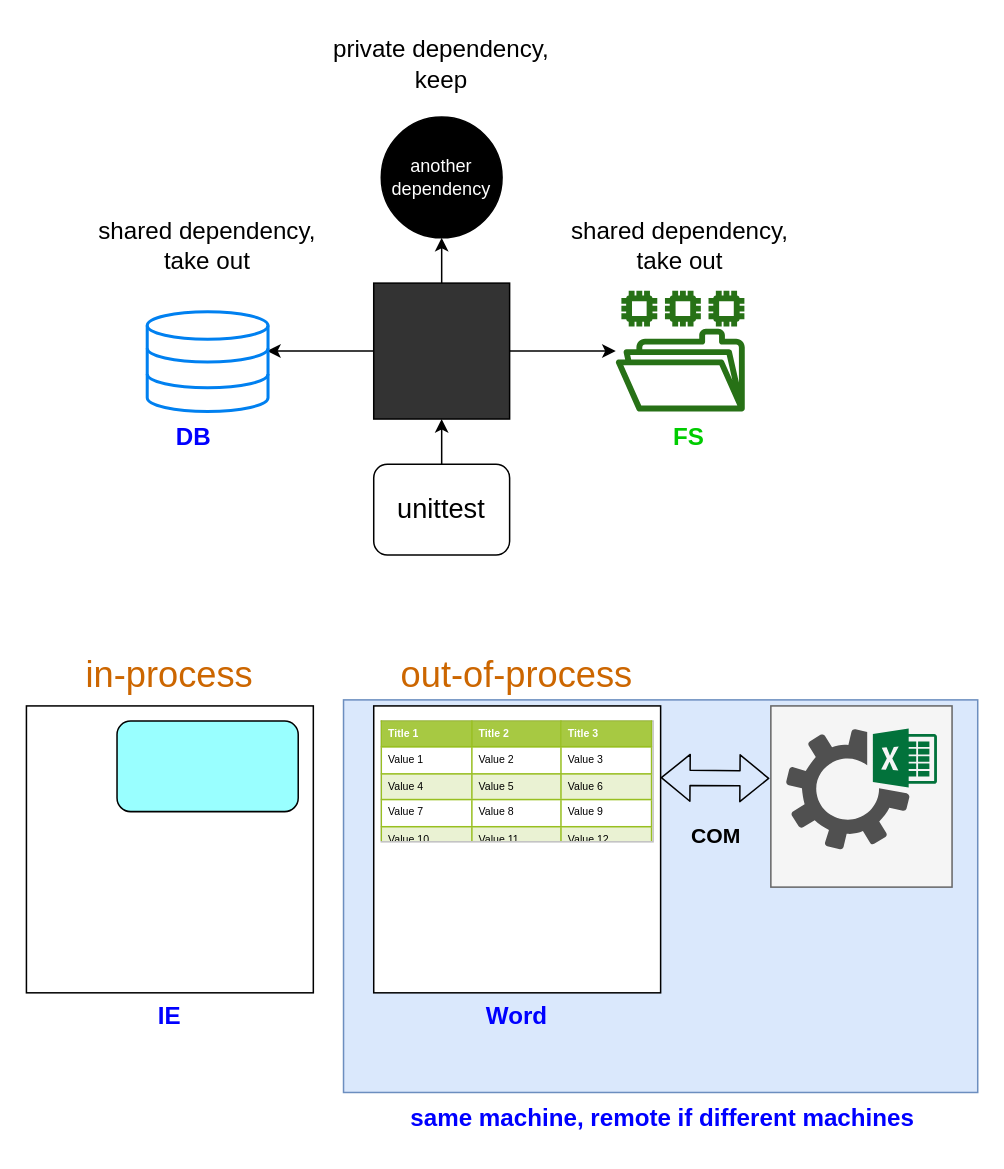
Image size: 1004x1169. Some labels were removed from this diagram. Here are the shapes that lost their labels. From the top down, the centre of each, then its label:
(x=441, y=350): SUT
(x=207, y=766): ActiveX
